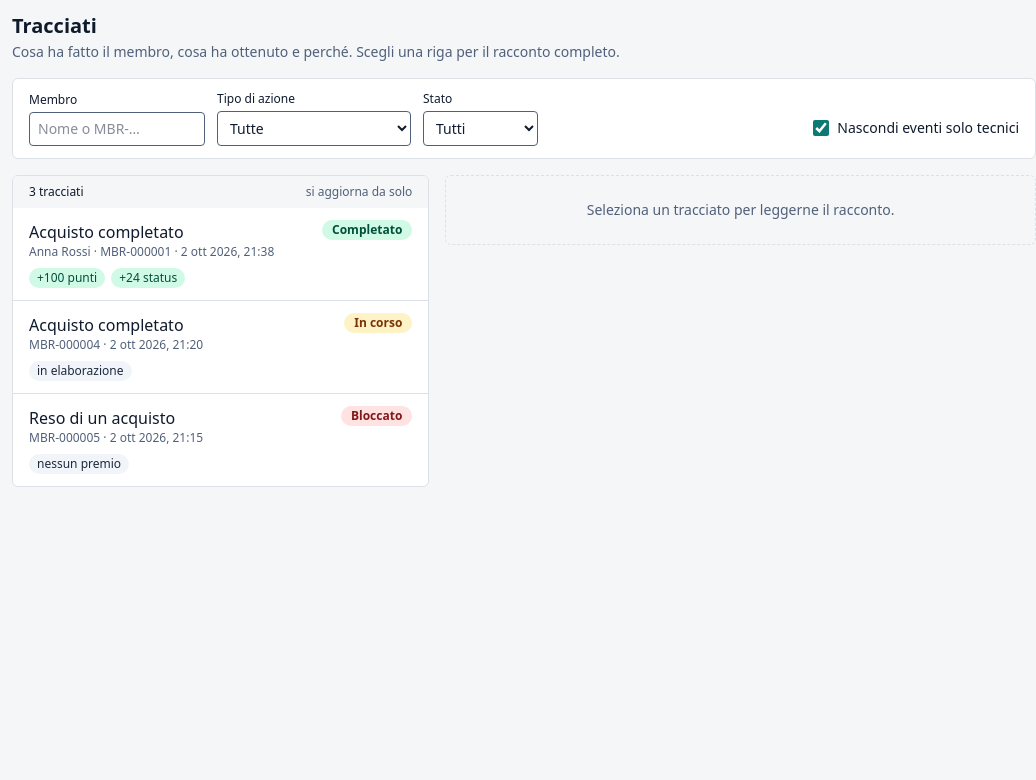
Test: BO-25 Tracciati, elenco › nasconde di default gli eventi solo tecnici e li mostra togliendo l'interruttore
This screenshot has width=1036, height=780.
Check: the text "Anna Rossi · MBR-000001 · 2 ott 2026, 21:38" is shown, box [29, 244, 310, 260]
Check: the text "Entrato in un segmento" is not shown
Click the checkbox labelled "Nascondi eventi solo tecnici" at {"x": 821, "y": 128}, box [813, 120, 829, 136]
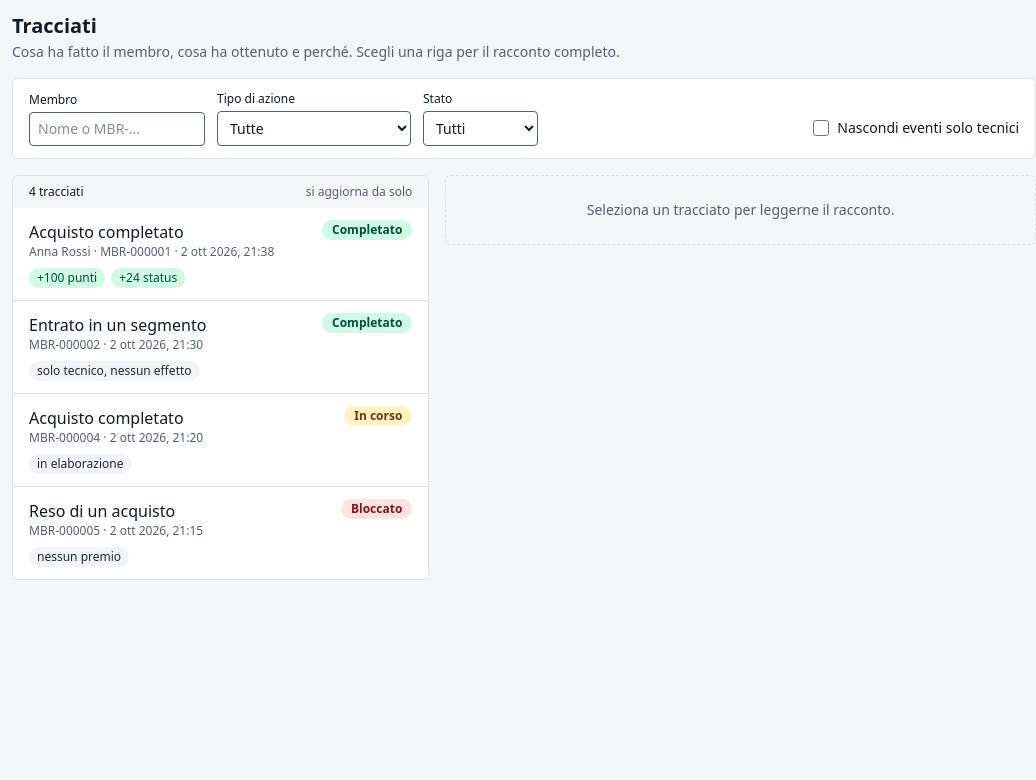
Check: the text "Entrato in un segmento" is shown, box [29, 314, 206, 336]
Check: the text "solo tecnico, nessun effetto" is shown, box [29, 361, 200, 381]
